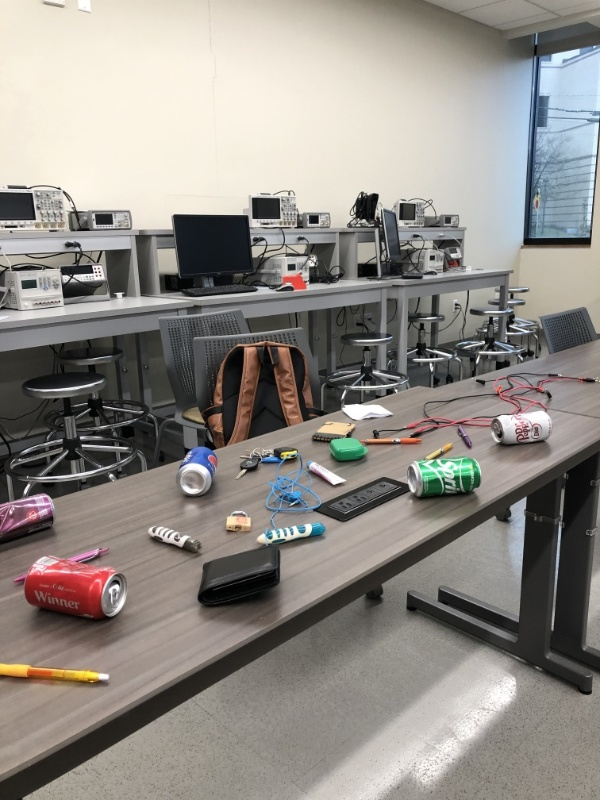can: (21, 551, 130, 623), (405, 452, 484, 501), (1, 489, 59, 551), (176, 444, 224, 499), (489, 410, 555, 450)
